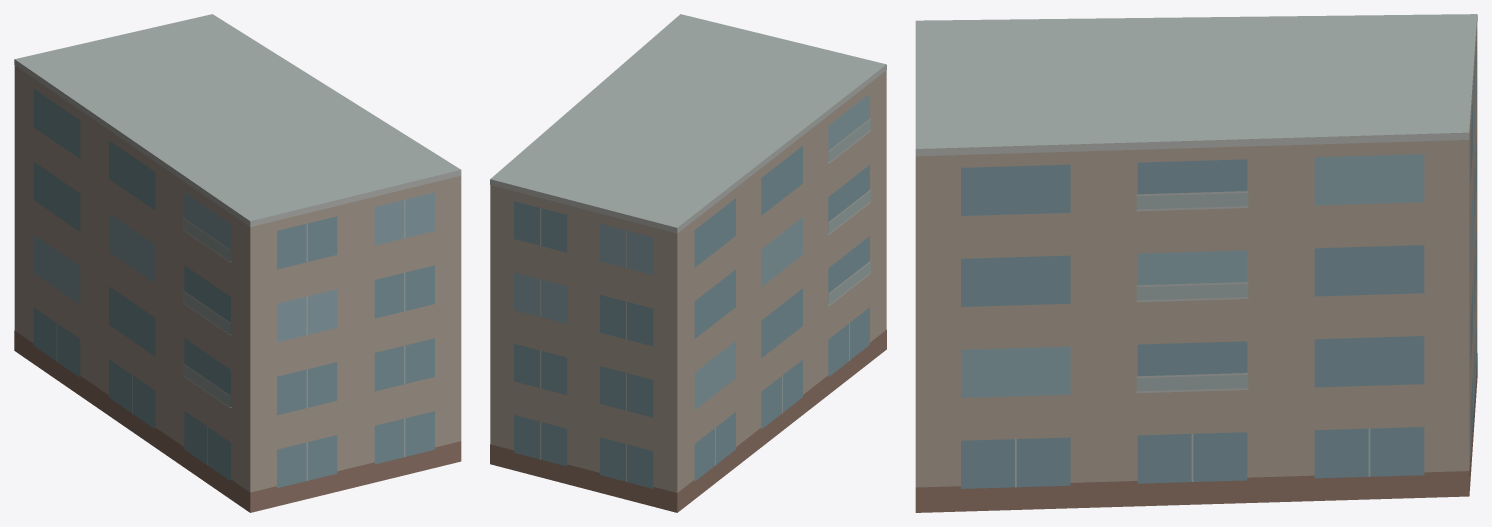
The model's file is residential-8197da4c-0b88-47bb-aa97-d16fb2ca6e57.glb.
3 renders of one model, left to right at view 1: azimuth 30°, elevation 25°; view 2: azimuth 150°, elevation 25°; view 3: azimuth 270°, elevation 25°, orthographic. The views are drawn at different scales.
Parts seen in each view (by area): view 1: residential-8197da4c-0b88-47bb-aa97-d16fb2ca6e57.tmp; view 2: residential-8197da4c-0b88-47bb-aa97-d16fb2ca6e57.tmp; view 3: residential-8197da4c-0b88-47bb-aa97-d16fb2ca6e57.tmp.
Boxes of the visible parts, box(x1,y1,x2,y2) form: residential-8197da4c-0b88-47bb-aa97-d16fb2ca6e57.tmp: box(14, 14, 461, 512); residential-8197da4c-0b88-47bb-aa97-d16fb2ca6e57.tmp: box(490, 14, 886, 512); residential-8197da4c-0b88-47bb-aa97-d16fb2ca6e57.tmp: box(915, 14, 1477, 512).
Bounding box in the file's own units: 9.72 × 12.2 × 17.08.
